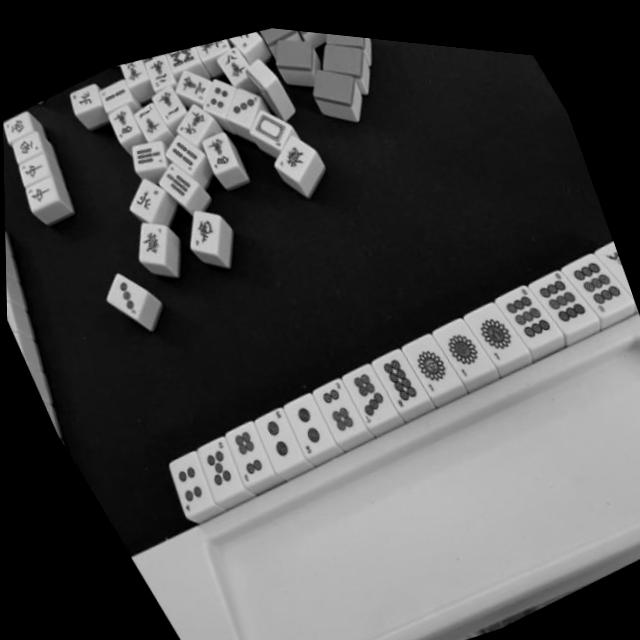bf1: (594, 231, 635, 297)
sd1: (426, 310, 483, 381), (461, 295, 516, 364), (396, 328, 450, 395)
sd2: (244, 400, 297, 469), (273, 394, 323, 456)
sd4: (151, 451, 205, 516)
sd5: (185, 432, 238, 497)
sd6: (209, 417, 264, 485), (304, 372, 357, 439)
sd7: (331, 359, 386, 426)
sd8: (365, 343, 418, 412)
sd9: (560, 242, 624, 317), (525, 259, 586, 333), (492, 275, 550, 346)
